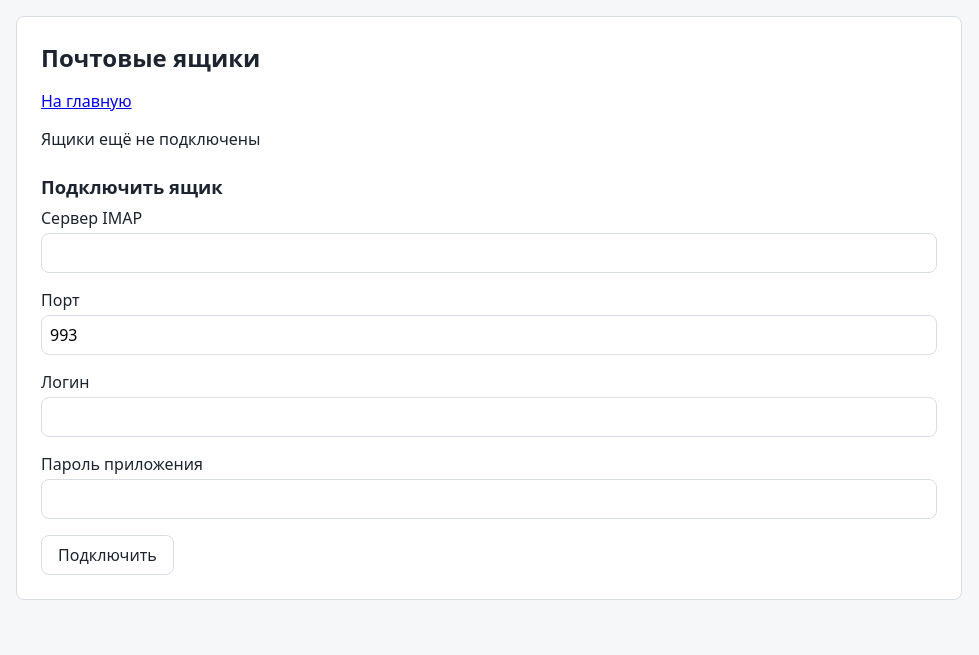
Test: mailboxes page: connect form › FR-22 «Wrong password»: nothing is saved and the form shows the sign-in refusal
Expected: the text "Ящики ещё не подключены" is shown, [41,128,260,150]
In the field labelled "Сервер IMAP": point(489, 253) [41,233,937,273], type "imap.yandex.ru"
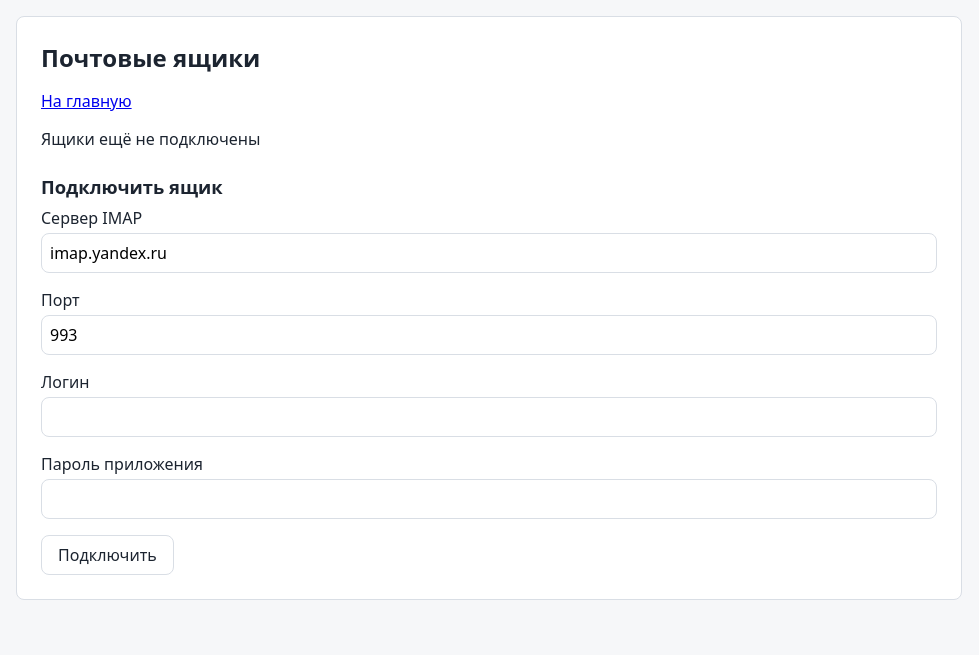
In the field labelled "Логин": point(489, 417) [41,397,937,437], type "anna@yandex.ru"
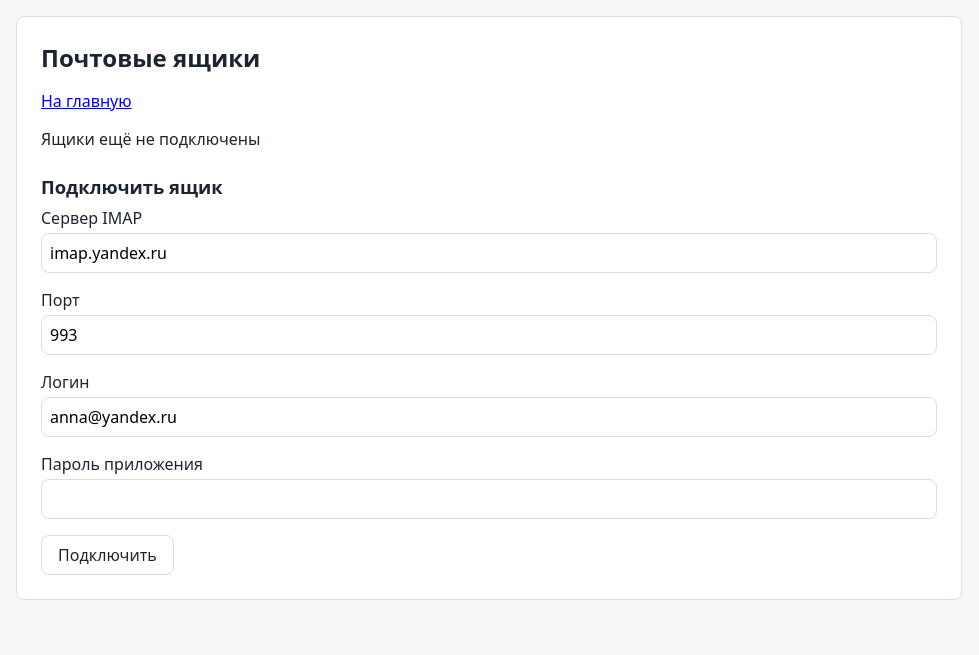
In the password field labelled "Пароль приложения": point(489, 499) [41,479,937,519], type "wrong-pass-1"
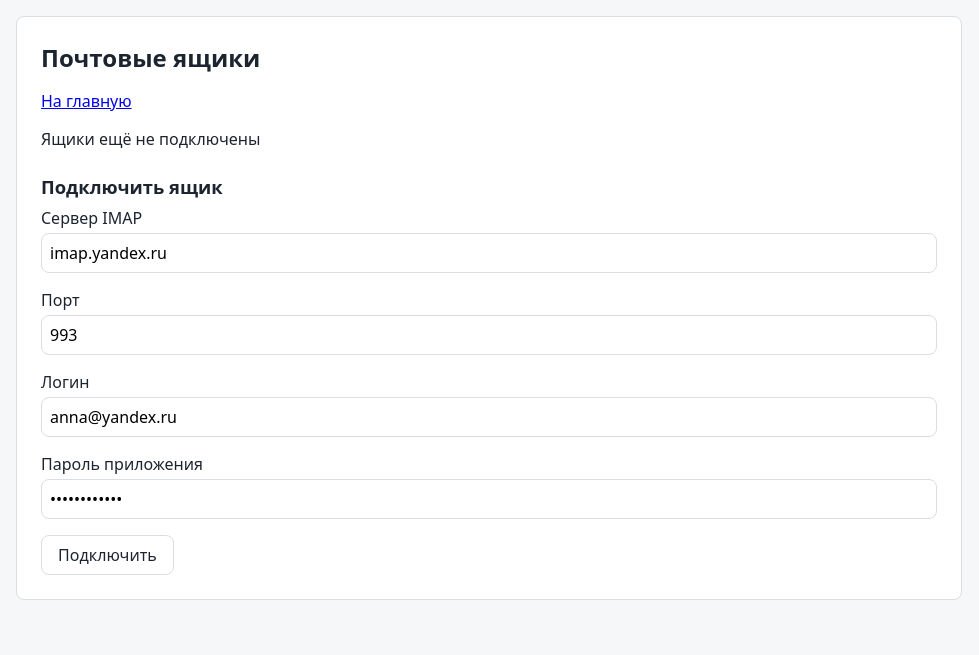
Click the button "Подключить": point(107, 555) [41,535,174,575]
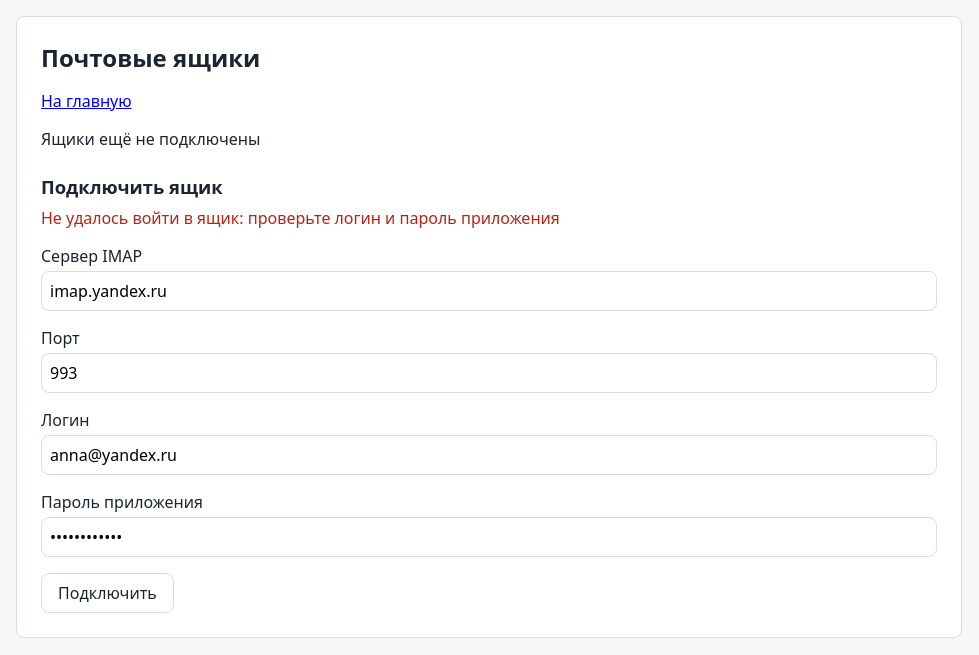
Expected: the text "Ящики ещё не подключены" is shown, [41,128,260,150]
Result: the text "Не удалось войти в ящик: проверьте логин и пароль приложения" is shown at [41,207,560,229]
